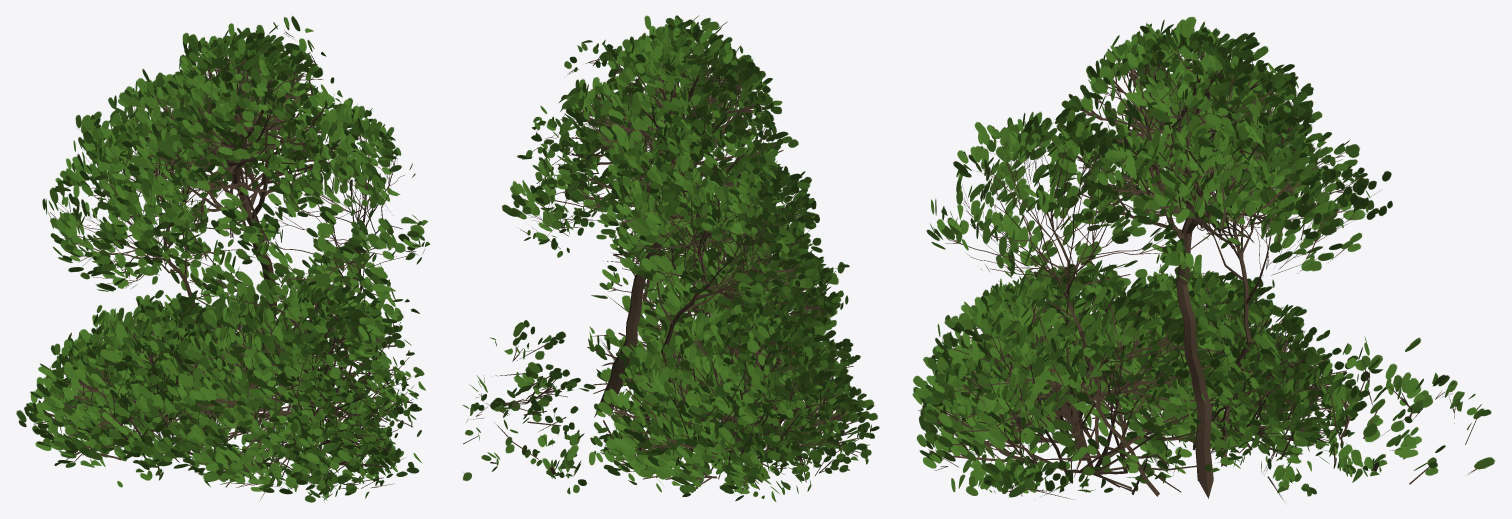
3 views of the same model, side by side, from view 1: azimuth 30°, elevation 25°; view 2: azimuth 150°, elevation 25°; view 3: azimuth 270°, elevation 25° (orthographic). The views are drawn at different scales.
Parts seen in each view (by area): view 1: oak 01.001_trunk_Mat.001_0.254; view 2: oak 01.001_trunk_Mat.001_0.254; view 3: oak 01.001_trunk_Mat.001_0.254.
Boxes of the visible parts, x1,y1,x2,y2 form: oak 01.001_trunk_Mat.001_0.254: (16,16,430,502); oak 01.001_trunk_Mat.001_0.254: (462,15,879,501); oak 01.001_trunk_Mat.001_0.254: (912,17,1495,501).
Bounding box in the file's own units: 2.78 × 3.78 × 4.36.
Materials: 2 (1 with a texture image).
